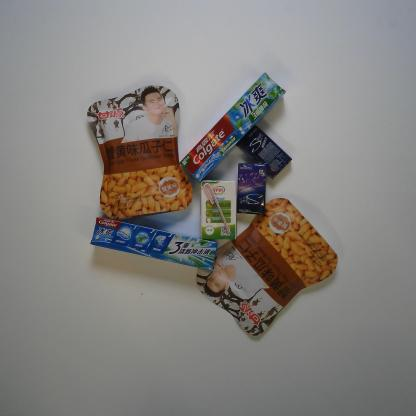Dried Fruit: (194, 197, 339, 337), (85, 82, 194, 221)
Gum: (235, 123, 292, 180), (236, 162, 267, 216)
Milk: (199, 179, 238, 241)
Personal Hygiene: (177, 69, 287, 184), (89, 216, 218, 271)
